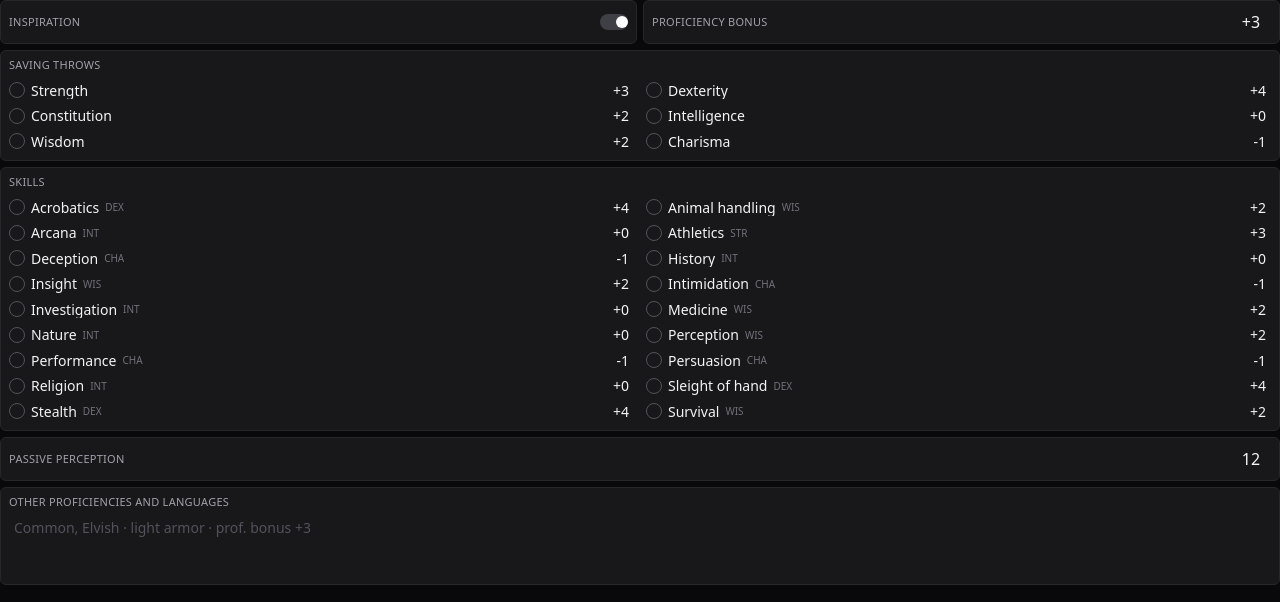
SkillList › cycles proficiency to expertise on the second click
Expected: the field named "Stealth total" holds "+4", [598,400,634,423]
Click the button named "Stealth proficiency". click: (17, 411)
box: [9,403,25,419]
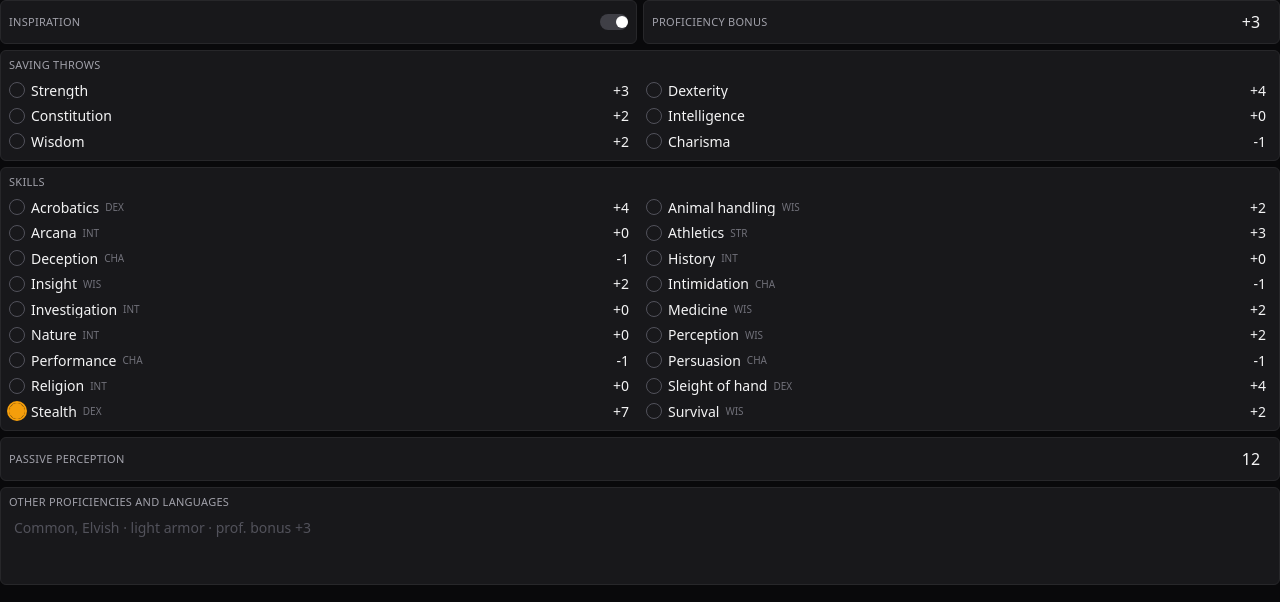
Expected: the field named "Stealth total" holds "+7", [598,400,634,423]
Click the button named "Stealth proficiency". click: (17, 411)
box: [9,403,25,419]
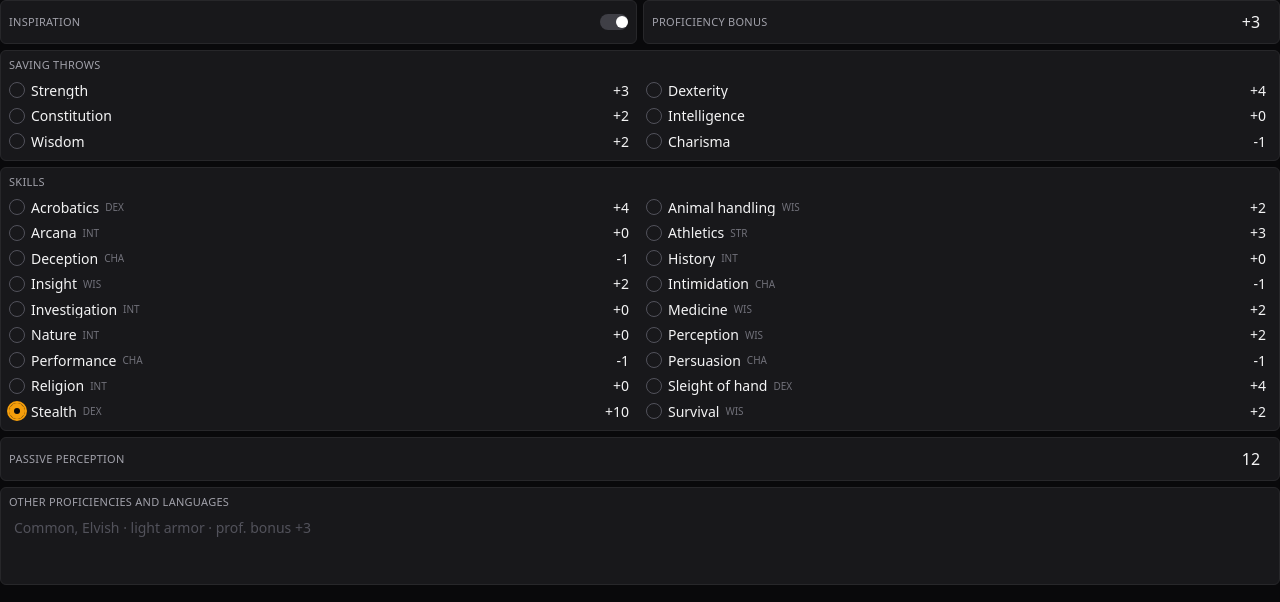
Expected: the field named "Stealth total" holds "+10", [598,400,634,423]
Click the button named "Stealth proficiency". click: (17, 411)
box: [9,403,25,419]
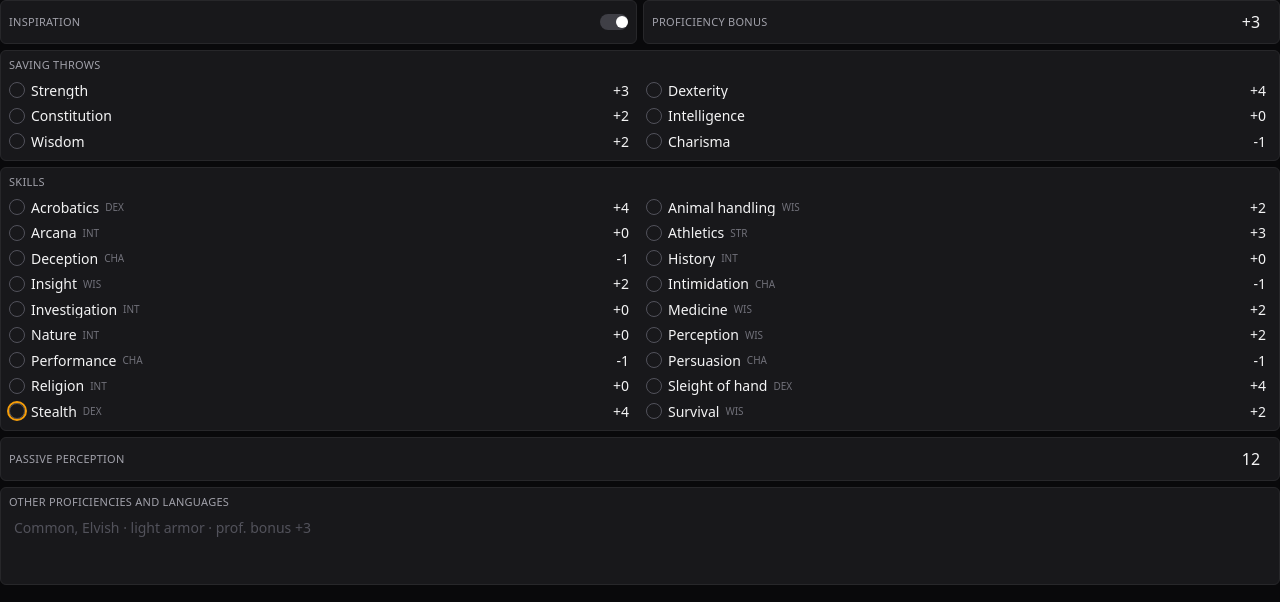
Expected: the field named "Stealth total" holds "+4", [598,400,634,423]
